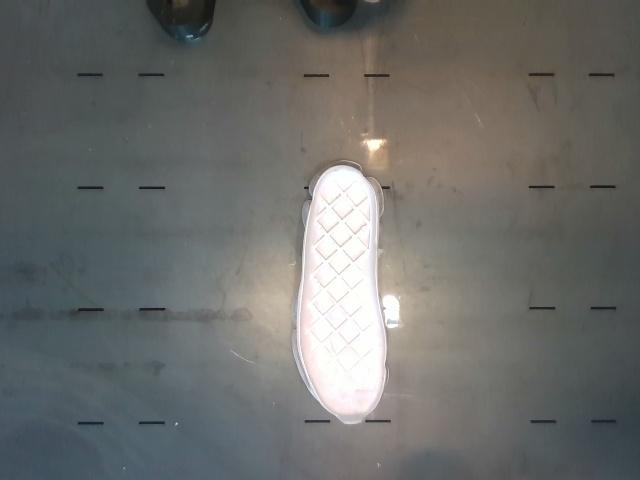shoes: (299, 166, 386, 423)
